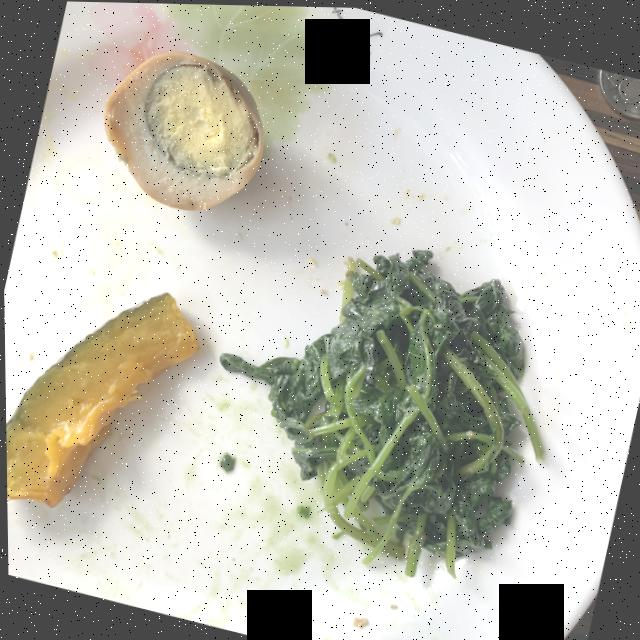coin: (597, 66, 640, 116)
pumpkin: (5, 292, 197, 506)
soy egg: (102, 50, 262, 209)
sweet potato leaves: (219, 247, 540, 574)
